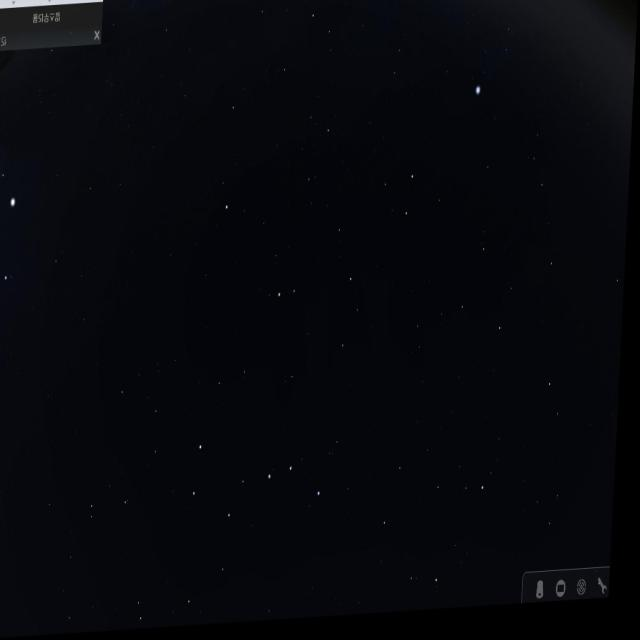lyra: (470, 17, 519, 117)
ursa_major: (189, 419, 331, 544)
